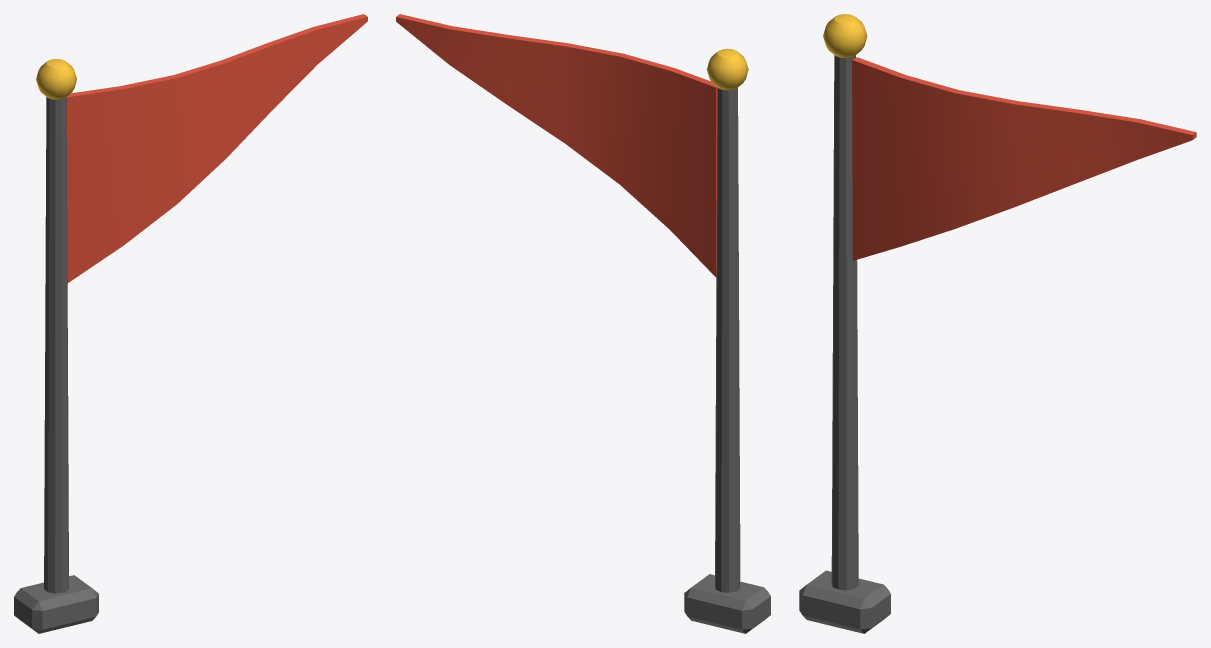
File: goal-flag.glb
The picture shows the model from 3 angles, left to right: view 1: azimuth 30°, elevation 25°; view 2: azimuth 150°, elevation 25°; view 3: azimuth 330°, elevation 25°; orthographic projection. The views are drawn at different scales.
Parts seen in each view (by area): view 1: goal-flag; view 2: goal-flag; view 3: goal-flag.
Boxes of the visible parts, bbox=[...] form: goal-flag: bbox=[14, 14, 367, 633]; goal-flag: bbox=[396, 14, 770, 633]; goal-flag: bbox=[799, 14, 1196, 633].
Size of the model in its own units: 1.57 by 2.4 by 0.2.
